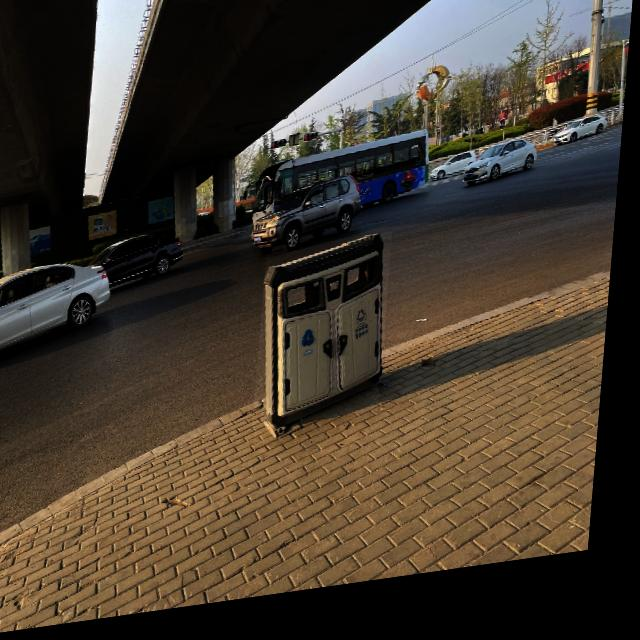garbage_bin: (260, 244, 397, 437)
